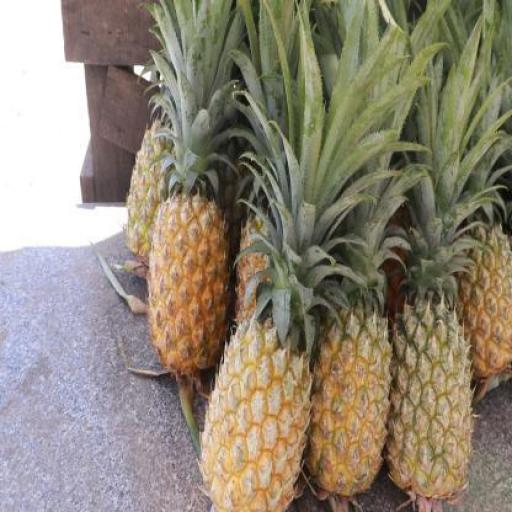------------------------------: (391, 301, 472, 499)
Pineapple - v8 v1: (208, 320, 310, 512), (310, 314, 390, 503), (148, 196, 224, 382), (458, 222, 512, 376)
